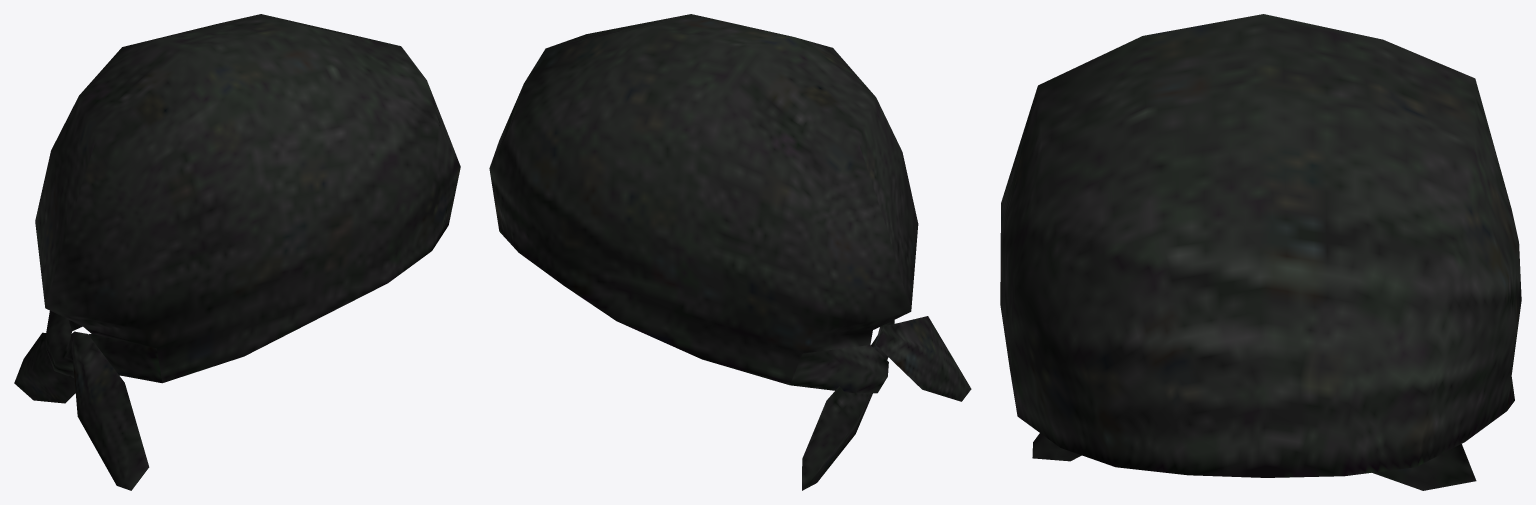
Rendered from coshat_0000001.FBX.
3 views of the same model, side by side, from view 1: azimuth 30°, elevation 25°; view 2: azimuth 150°, elevation 25°; view 3: azimuth 270°, elevation 25° (orthographic). The views are drawn at different scales.
Visible parts, largest first — view 1: coshat_0000001; view 2: coshat_0000001; view 3: coshat_0000001.
Boxes of the visible parts, x1,y1,x2,y2 form: coshat_0000001: (14, 14, 460, 490); coshat_0000001: (489, 14, 971, 490); coshat_0000001: (1000, 14, 1521, 490).
Bounding box in the file's own units: 31.11 × 28.08 × 23.52.
